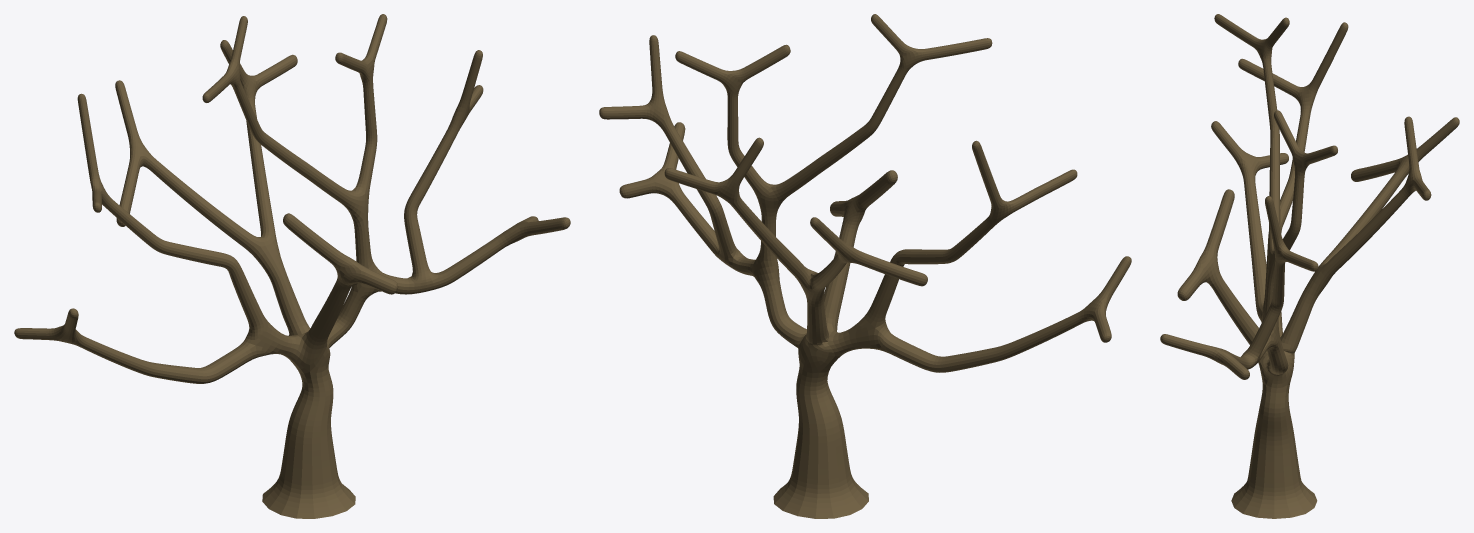
The model's file is tree1.fbx.
3 renders of one model, left to right at view 1: azimuth 30°, elevation 25°; view 2: azimuth 150°, elevation 25°; view 3: azimuth 270°, elevation 25°, orthographic. The views are drawn at different scales.
Parts seen in each view (by area): view 1: Vert; view 2: Vert; view 3: Vert.
Part boxes in pixels (x1,y1,x2,y2): Vert: (14, 14, 570, 518); Vert: (599, 14, 1131, 518); Vert: (1160, 14, 1459, 518).
Size of the model in its own units: 388 by 364 by 217.
